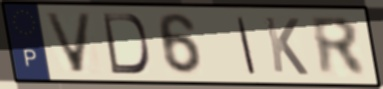6: (156, 11, 205, 78)
D: (100, 11, 152, 76)
I: (234, 14, 259, 76)
K: (261, 14, 311, 78)
R: (307, 14, 371, 79)
V: (41, 10, 96, 75)
